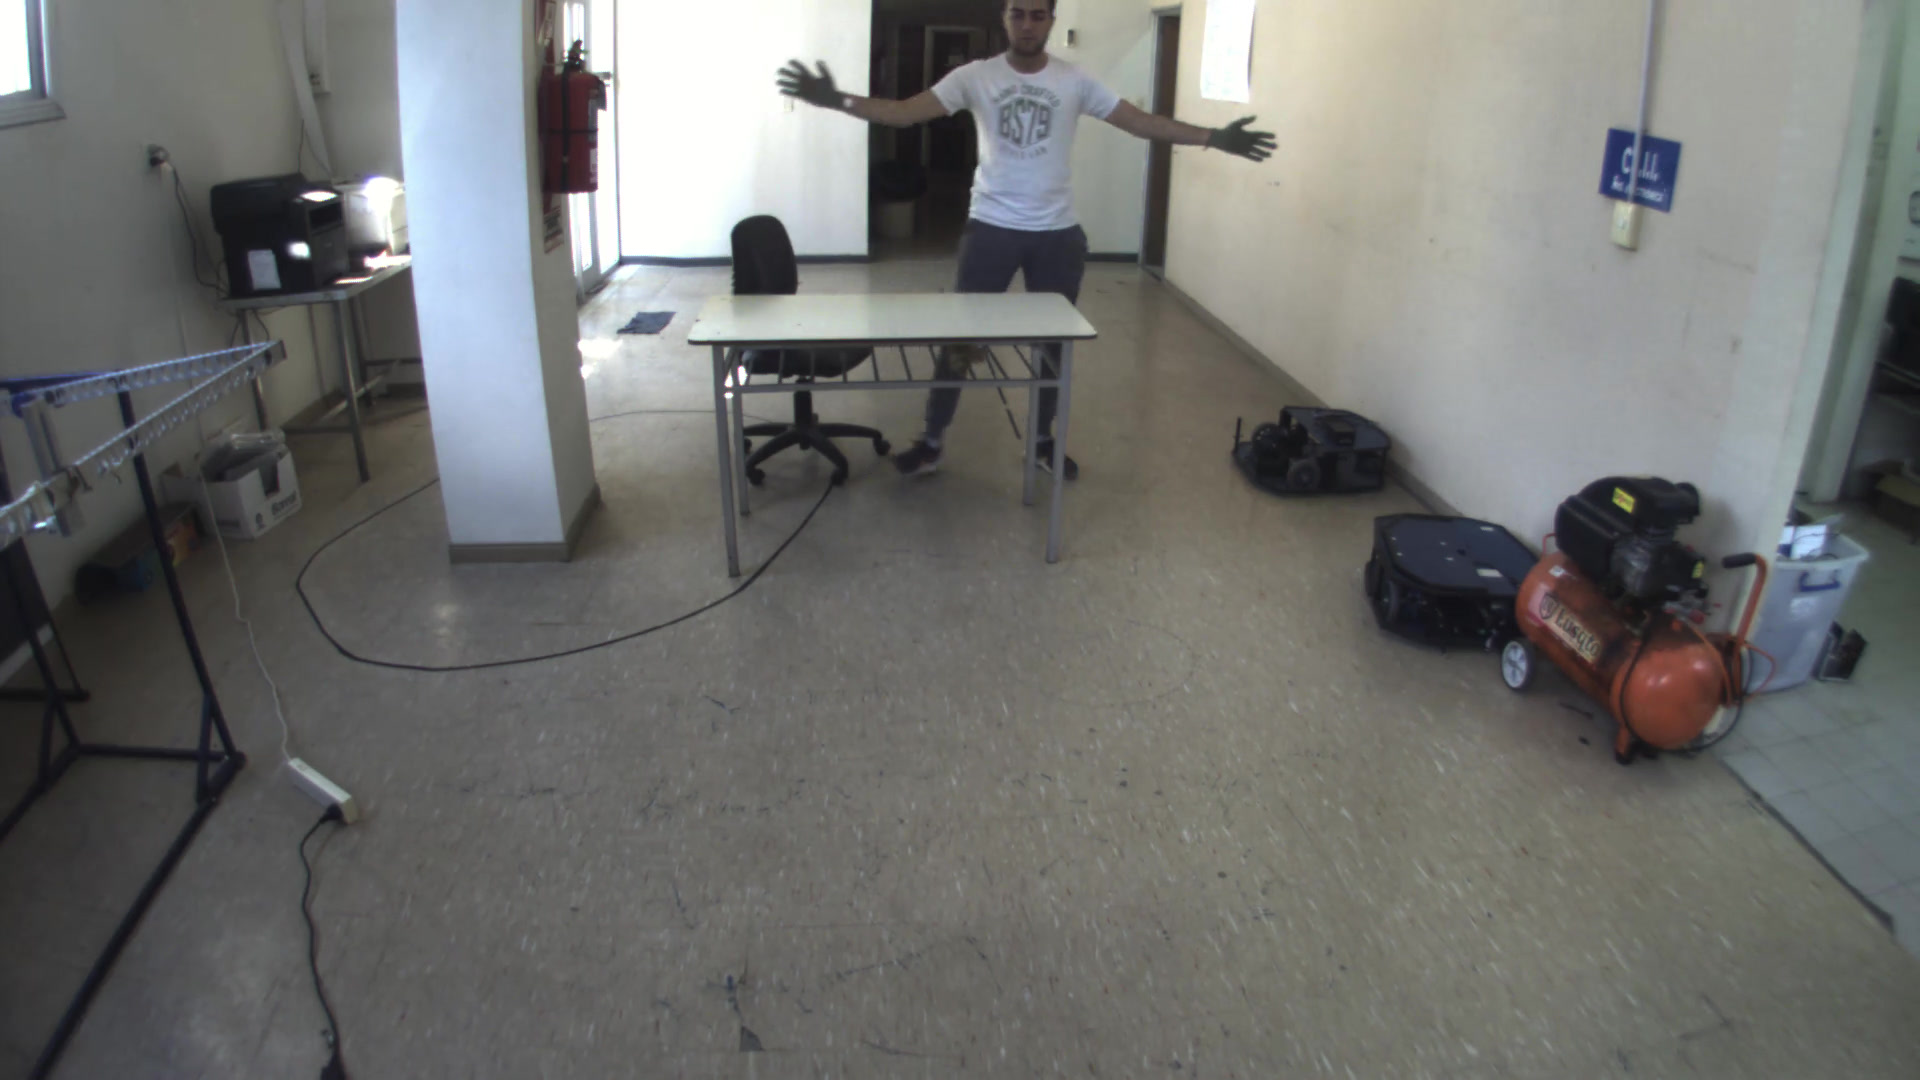hand: (1197, 108, 1288, 177), (771, 55, 855, 123)
